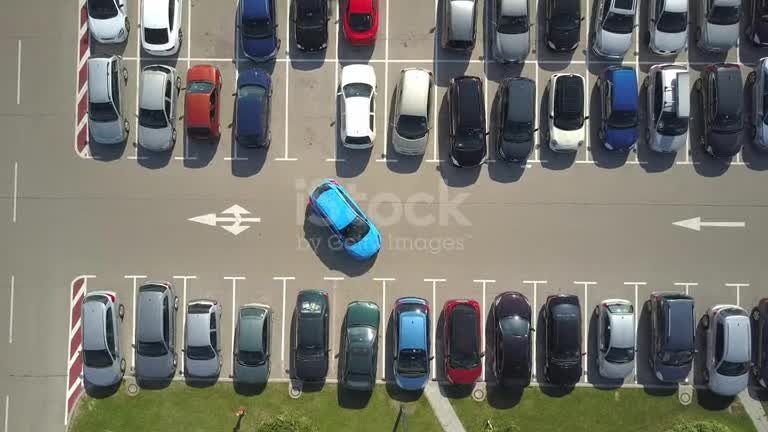car: (544, 0, 687, 52), (309, 179, 380, 259), (694, 63, 745, 157), (701, 304, 751, 395), (134, 282, 178, 382), (646, 292, 694, 382), (81, 291, 125, 386), (491, 292, 533, 387), (646, 64, 689, 152), (137, 64, 180, 150), (87, 56, 129, 143), (391, 68, 433, 154), (596, 66, 639, 150), (393, 297, 431, 390), (448, 76, 487, 166), (341, 301, 380, 390), (544, 294, 582, 385), (495, 77, 536, 161), (443, 300, 483, 384), (293, 290, 329, 380), (595, 299, 635, 379), (233, 303, 272, 384), (547, 73, 586, 151), (339, 64, 375, 148), (184, 299, 221, 378), (234, 68, 271, 147), (591, 0, 639, 59), (185, 64, 221, 139), (489, 0, 530, 62), (239, 0, 280, 61), (694, 0, 741, 51), (141, 0, 182, 55), (648, 0, 688, 55), (291, 0, 328, 51), (747, 57, 767, 150), (441, 0, 477, 50), (87, 0, 129, 42), (343, 0, 378, 44), (751, 298, 767, 387), (745, 0, 767, 46)
